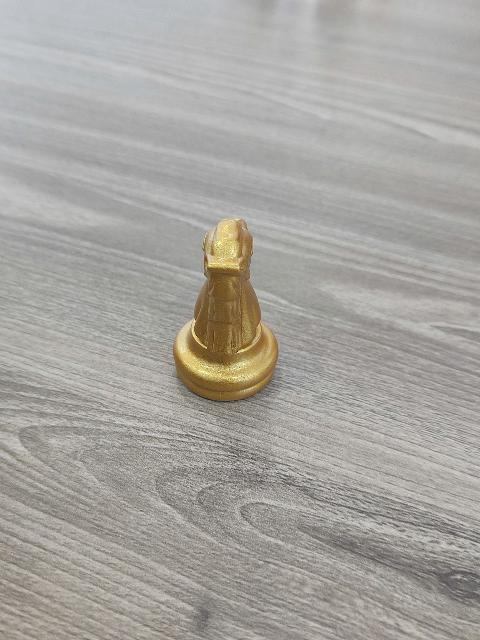black_knight: (169, 214, 281, 400)
